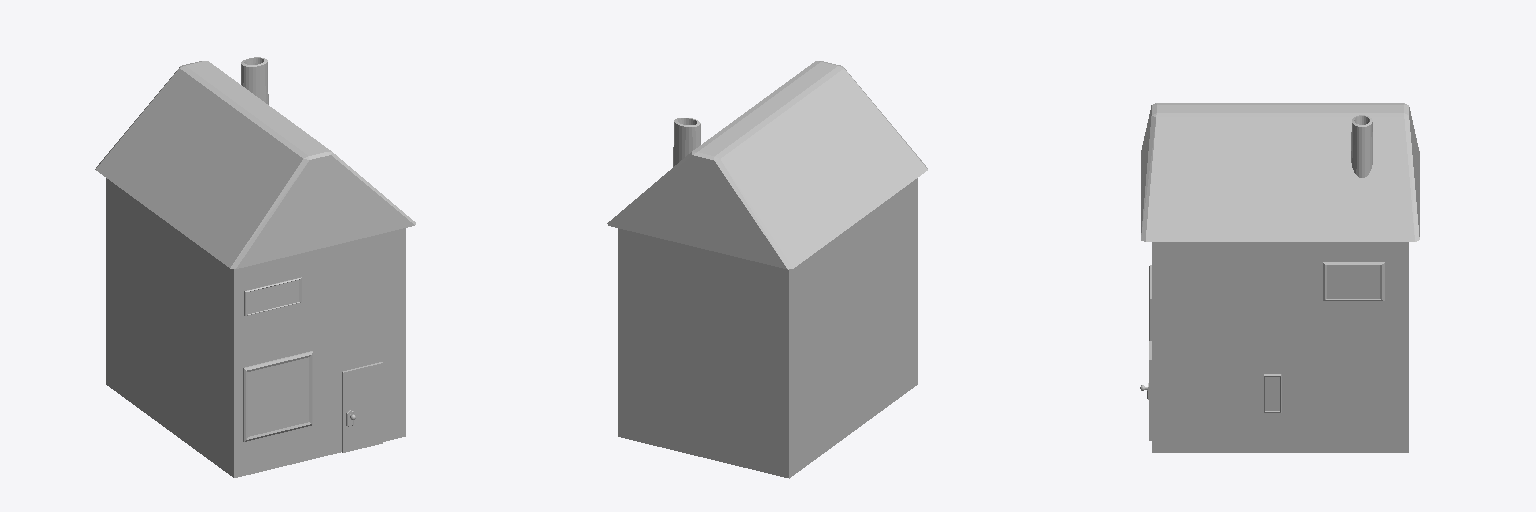
Rendered from house_model5.obj.
The picture shows the model from 3 angles: view 1: azimuth 30°, elevation 25°; view 2: azimuth 150°, elevation 25°; view 3: azimuth 270°, elevation 25°; orthographic projection.
Parts seen in each view (by area): view 1: house003; view 2: house003; view 3: house003.
Part boxes in pixels (x1,y1,x2,y2): house003: (95, 57, 415, 477); house003: (607, 61, 927, 478); house003: (1140, 103, 1419, 452).
Size of the model in its own units: 75.4 by 120 by 98.02.